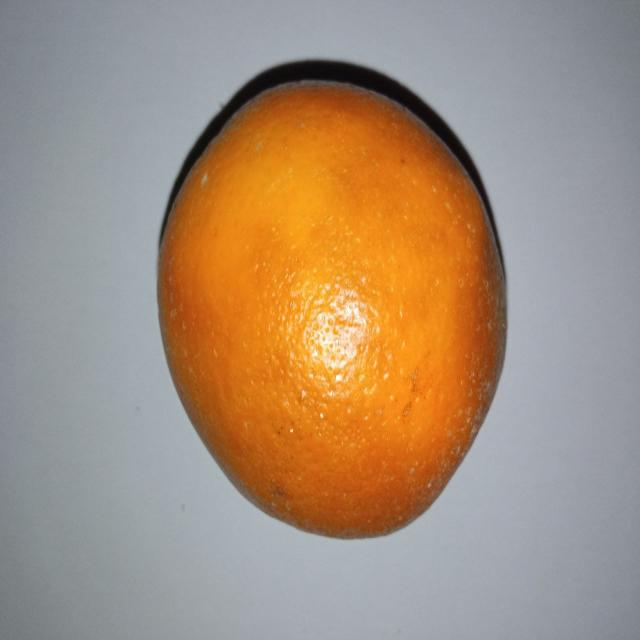rotten_orange: (156, 77, 502, 543)
